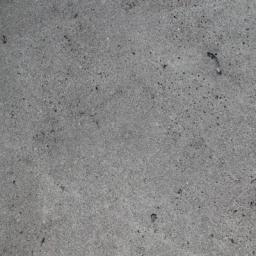FOD: (205, 49, 227, 79)
